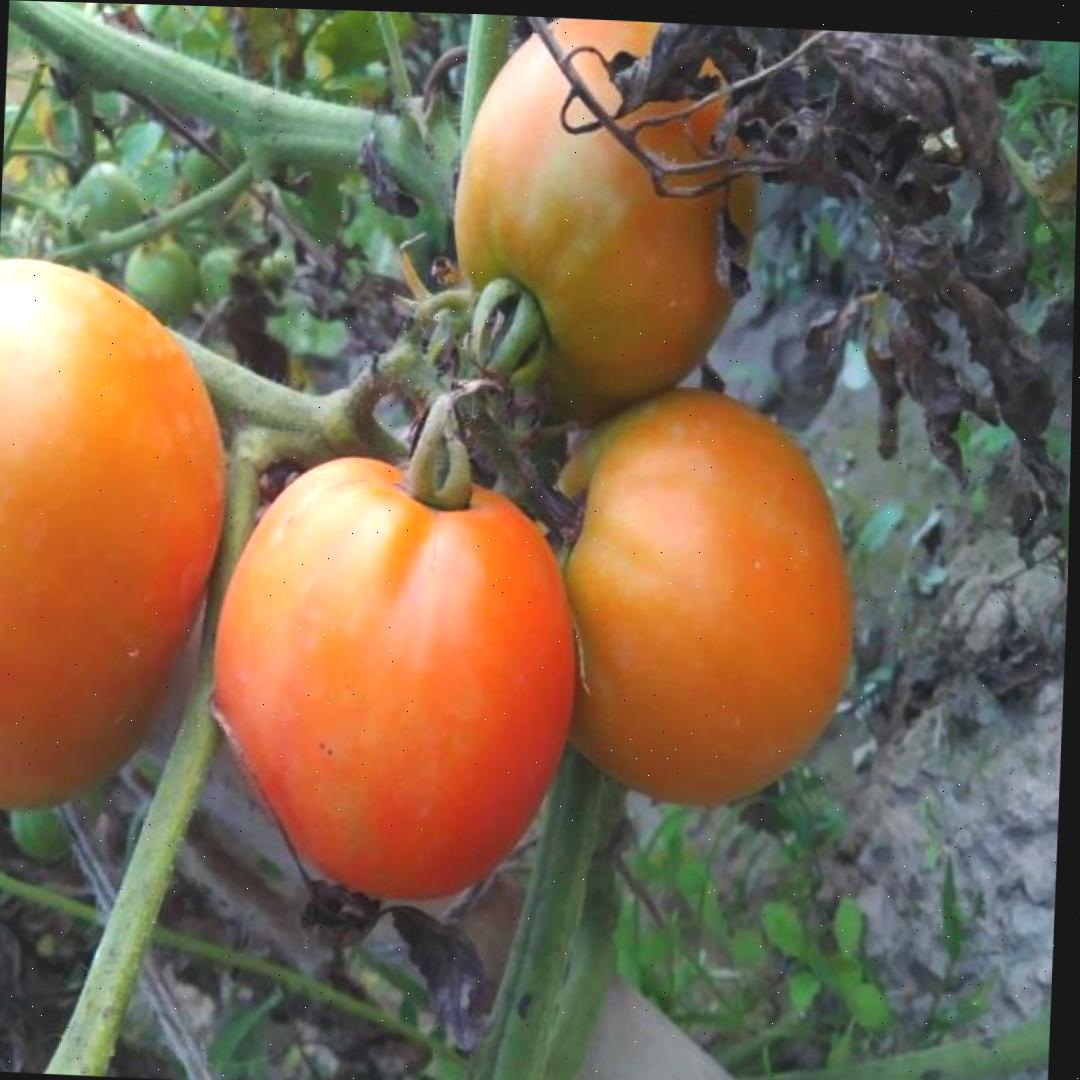setengah_matang: (202, 441, 581, 912), (519, 373, 869, 812), (442, 13, 768, 431), (0, 249, 233, 826)
